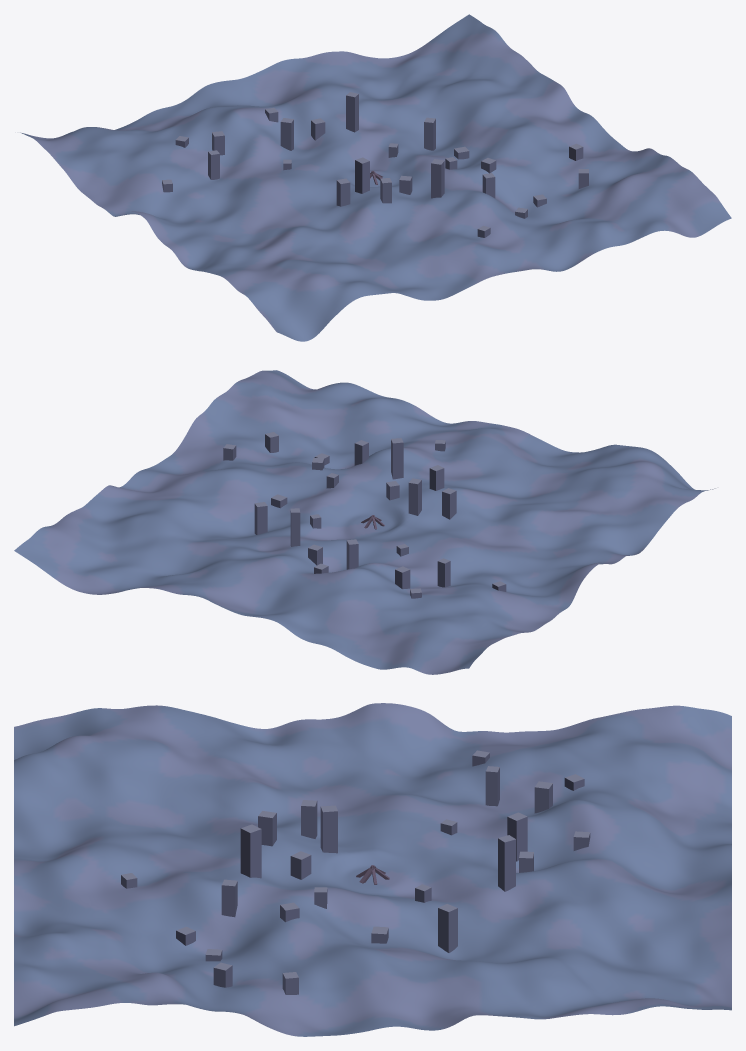
The model's file is grass_lab.gltf.
3 views of the same model, one above another, from view 1: azimuth 30°, elevation 25°; view 2: azimuth 150°, elevation 25°; view 3: azimuth 270°, elevation 25° (orthographic). The views are drawn at different scales.
Parts seen in each view (by area): view 1: GROUND; view 2: GROUND, PILLAR_14; view 3: GROUND, PILLAR_14, PILLAR_22, PILLAR_24, PILLAR_00, PILLAR_07, PILLAR_23, PILLAR_11, PILLAR_08, PILLAR_17, PILLAR_03.
Part boxes in pixels (x1,y1,x2,y2): GROUND: [20, 14, 731, 341]; GROUND: [14, 370, 715, 674]; PILLAR_14: [391, 438, 403, 479]; GROUND: [14, 703, 731, 1036]; PILLAR_14: [240, 824, 261, 878]; PILLAR_22: [498, 835, 515, 891]; PILLAR_24: [438, 904, 457, 952]; PILLAR_00: [320, 805, 337, 853]; PILLAR_07: [507, 812, 527, 861]; PILLAR_23: [301, 800, 317, 838]; PILLAR_11: [221, 879, 237, 917]; PILLAR_08: [485, 766, 499, 806]; PILLAR_17: [258, 811, 276, 846]; PILLAR_03: [534, 781, 552, 813].
Bounding box in the file's own units: 60 × 7.89 × 60.
